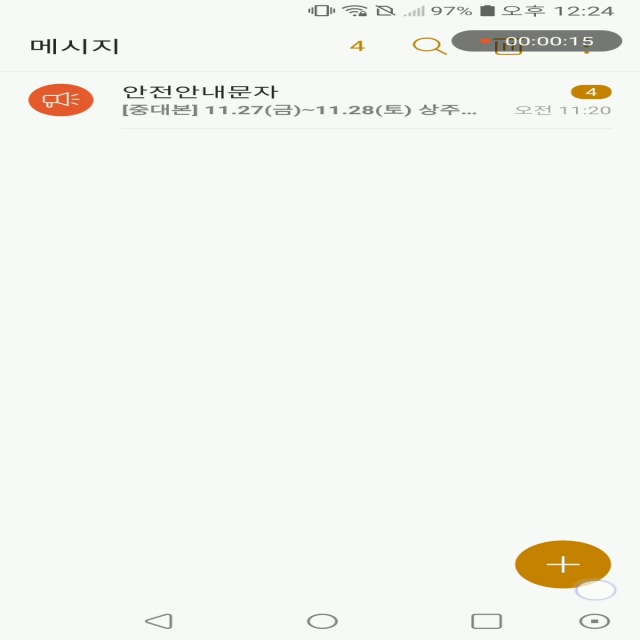Cursor: (575, 580, 619, 602)
